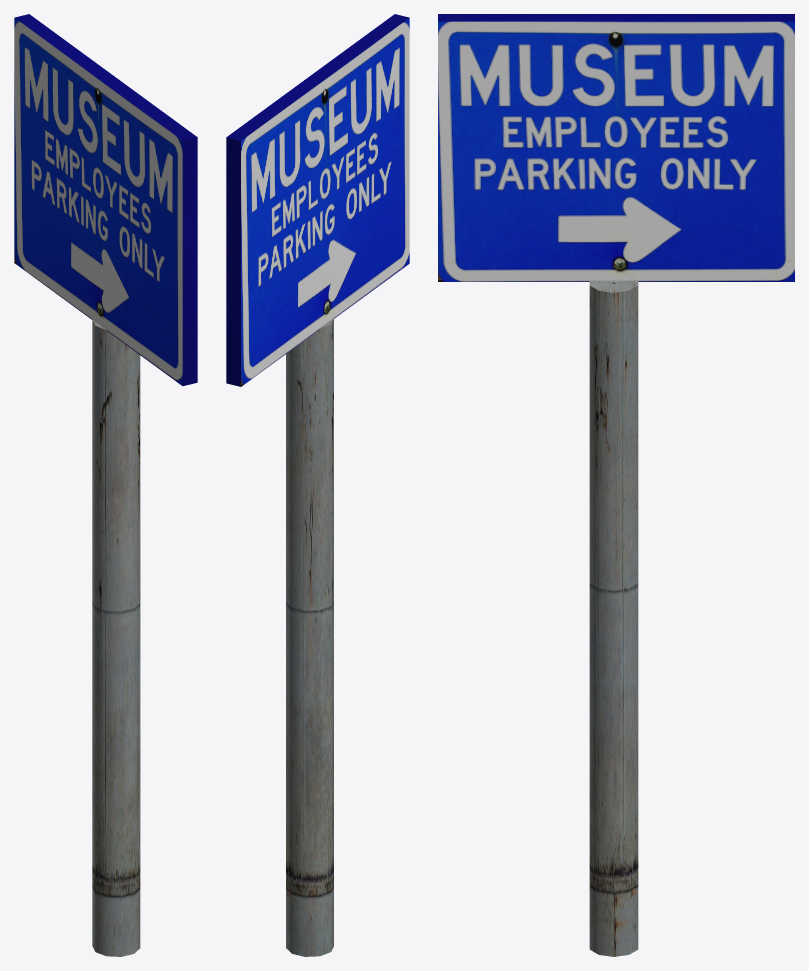
The model's file is sign15.FBX.
3 renders of one model, left to right at view 1: azimuth 30°, elevation 25°; view 2: azimuth 150°, elevation 25°; view 3: azimuth 270°, elevation 25°, orthographic. The views are drawn at different scales.
Parts seen in each view (by area): view 1: Cylinder002; view 2: Cylinder002; view 3: Cylinder002.
Boxes of the visible parts, x1,y1,x2,y2 form: Cylinder002: (14, 14, 197, 956); Cylinder002: (226, 14, 409, 956); Cylinder002: (438, 14, 794, 956).
Size of the model in its own units: 1.4 by 27.83 by 9.74.
